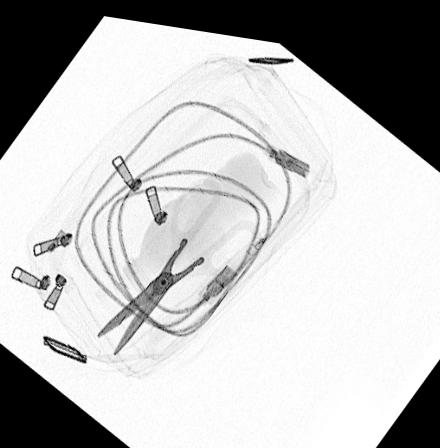Scissors: (91, 166, 264, 357)
